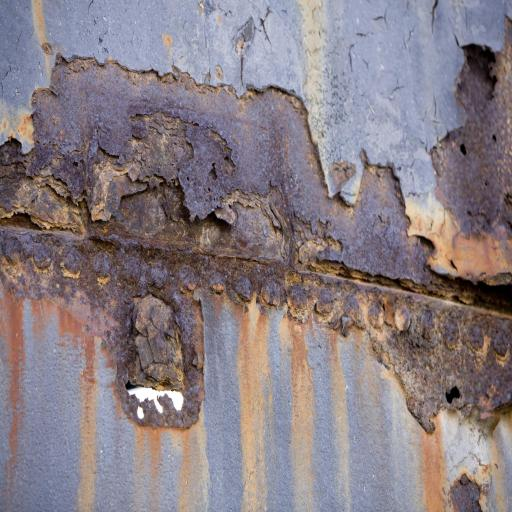segmentation: (0, 58, 480, 299), (0, 219, 380, 428), (405, 19, 512, 285), (369, 296, 512, 415), (450, 474, 482, 512)
